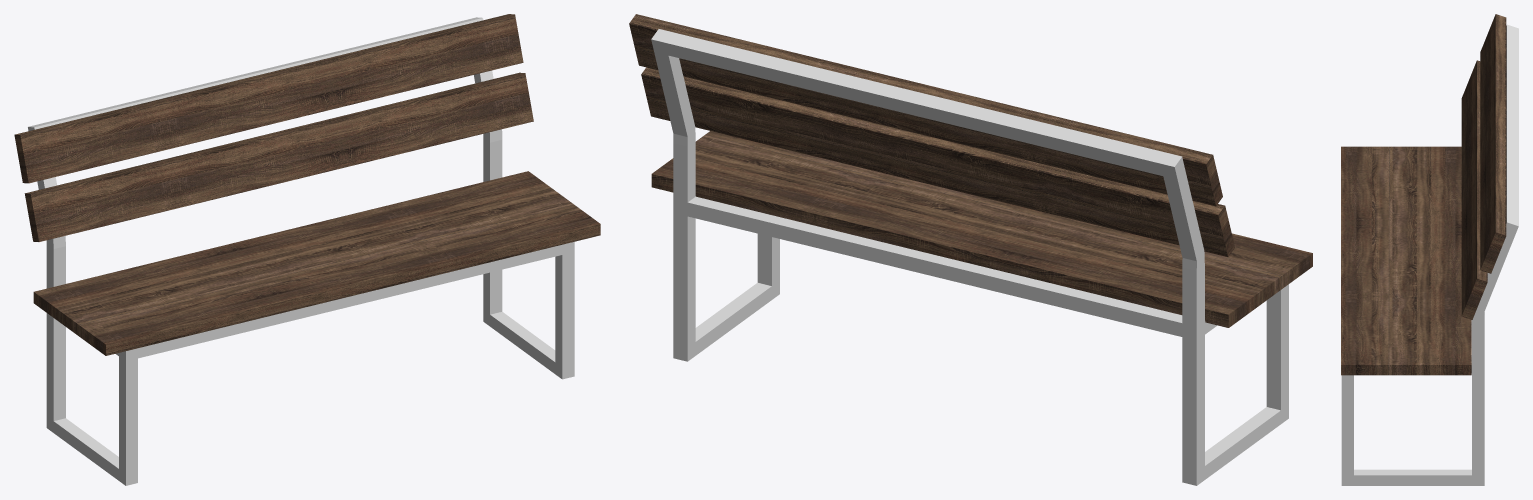
The model's file is lawka.FBX.
3 renders of one model, left to right at view 1: azimuth 30°, elevation 25°; view 2: azimuth 150°, elevation 25°; view 3: azimuth 270°, elevation 25°, orthographic. The views are drawn at different scales.
Parts seen in each view (by area): view 1: Box001, Box002, Box006, Box005; view 2: Box005, Box001, Box002, Box006; view 3: Box001, Box005, Box006, Box002.
Part boxes in pixels (<box>): Box001: <box>33,171,600,355</box>; Box002: <box>24,72,533,241</box>; Box006: <box>14,14,523,183</box>; Box005: <box>28,17,574,485</box>; Box005: <box>651,29,1288,485</box>; Box001: <box>651,131,1312,327</box>; Box002: <box>641,67,1234,256</box>; Box006: <box>629,14,1222,206</box>; Box001: <box>1341,146,1471,375</box>; Box005: <box>1341,24,1518,485</box>; Box006: <box>1480,14,1506,273</box>; Box002: <box>1461,60,1487,319</box>.
Bounding box in the file's own units: 1800 × 1020 × 620.
